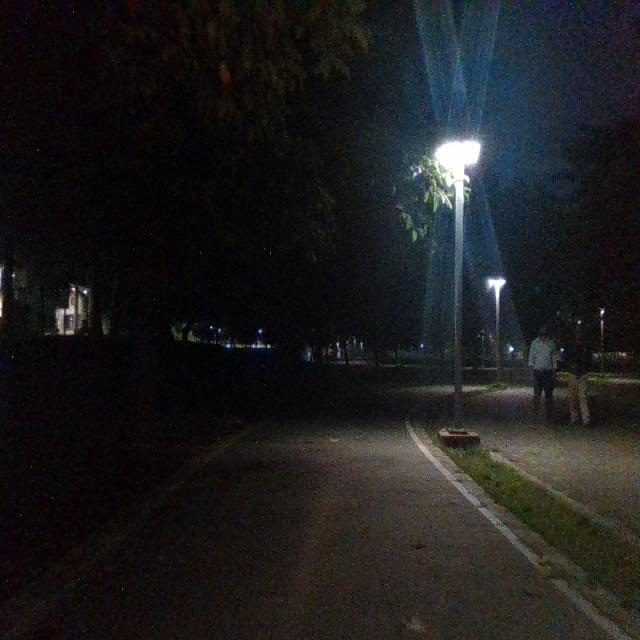lane: (40, 424, 615, 640)
